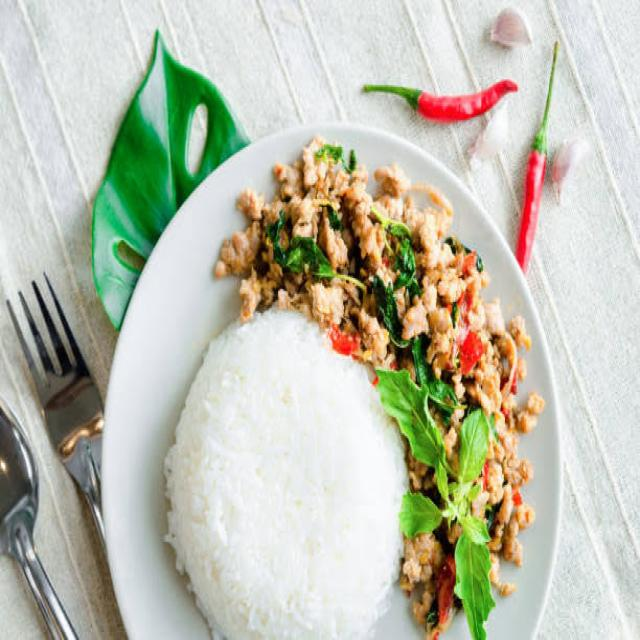basil chicken rice: (123, 155, 526, 628)
carb: (172, 336, 401, 640)
meat: (276, 144, 543, 608)
vegetable: (384, 389, 508, 637)
